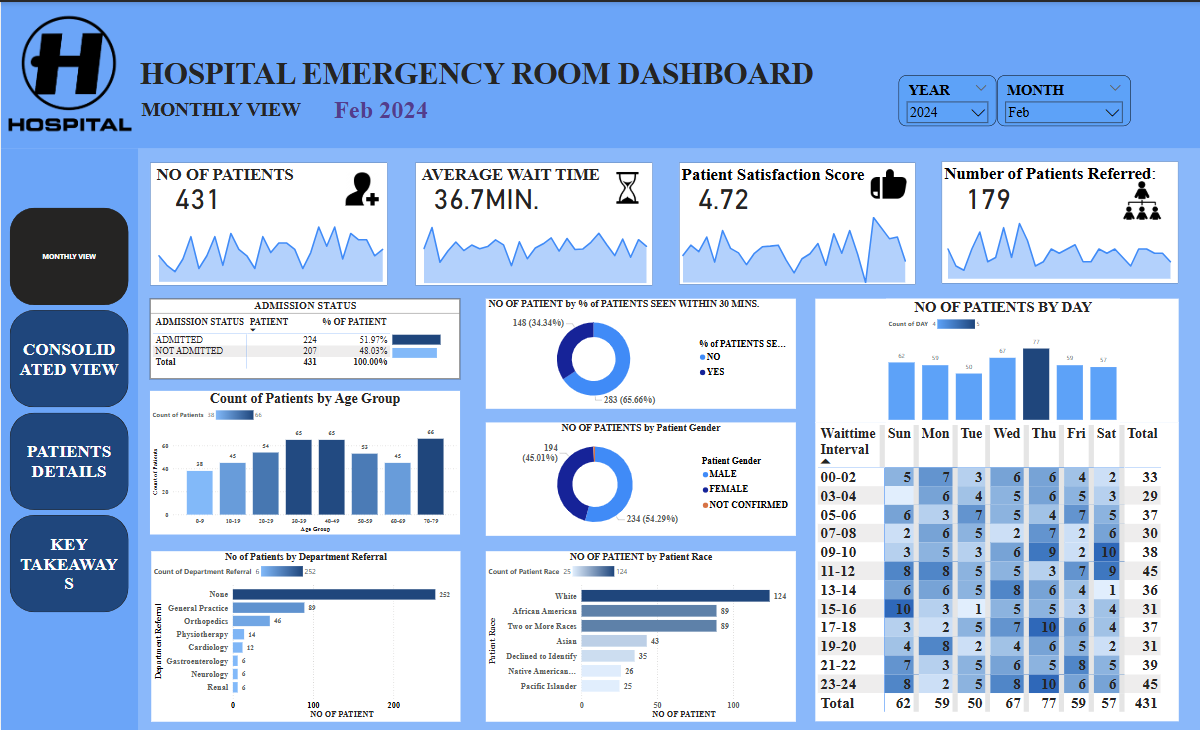

This screenshot's page, from the dashboard's own definition file:
{"tool":"powerbi","page":{"name":"MONTHLY VIEW","canvas":[2300,1400],"ordinal":0},"visuals":[{"type":"shape","box":[286,306.1,455,235.9],"z":0},{"type":"shape","box":[0,0,2300.9,279.6],"z":1000},{"type":"shape","box":[0,279.6,262.3,1120.8],"z":2000},{"type":"textbox","box":[262.1,98,1430.4,80.8],"z":3000},{"type":"textbox","box":[262.6,178.2,340.7,81.3],"z":4000},{"type":"card","fields":{"Values":["Hospital ER_Data.NO OF PATIENT"]},"box":[291.5,352.7,169,56.3],"z":5000},{"type":"slicer","fields":{"Values":["DATE Table.YEAR"]},"box":[1718.1,139.7,187.1,97.5],"z":6000},{"type":"slicer","fields":{"Values":["DATE Table.MONTH"]},"box":[1905.2,139.7,255.6,97.5],"z":7000},{"type":"textbox","box":[291.5,306.2,340.5,51.4],"z":8000},{"type":"areaChart","fields":{"Y":["Hospital ER_Data.NO OF PATIENT"],"Category":["DATE Table.Date.Variation.Date Hierarchy.Year","DATE Table.Date.Variation.Date Hierarchy.Quarter","DATE Table.Date.Variation.Date Hierarchy.Month","DATE Table.Date.Variation.Date Hierarchy.Day"]},"box":[286.6,399.2,458,142.1],"z":9000},{"type":"card","fields":{"Values":["Min(DATE Table.MONTH & YEAR)"]},"box":[603.3,165.7,246.9,71.9],"z":10000},{"type":"shape","box":[791.5,306.4,455,235.9],"z":11000},{"type":"card","fields":{"Values":["Hospital ER_Data.AVERAGE WAIT TIME"]},"box":[791.1,352.7,271.9,56.3],"z":12000},{"type":"textbox","box":[798.5,306.2,377.2,53.9],"z":13000},{"type":"areaChart","fields":{"Y":["Avg(Hospital ER_Data.Patient Waittime)"],"Category":["DATE Table.Date.Variation.Date Hierarchy.Year","DATE Table.Date.Variation.Date Hierarchy.Quarter","DATE Table.Date.Variation.Date Hierarchy.Month","DATE Table.Date.Variation.Date Hierarchy.Day"]},"box":[793.6,399.2,455.6,144.5],"z":14000},{"type":"shape","box":[1296.9,306.3,453.2,234.4],"z":15000},{"type":"card","fields":{"Values":["Hospital ER_Data.AV.Patient Satisfaction Score"]},"box":[1298.2,352.7,171.5,56.3],"z":16000},{"type":"textbox","box":[1298.2,306.2,394.3,61.2],"z":17000},{"type":"areaChart","fields":{"Category":["DATE Table.Date.Variation.Date Hierarchy.Year","DATE Table.Date.Variation.Date Hierarchy.Quarter","DATE Table.Date.Variation.Date Hierarchy.Month","DATE Table.Date.Variation.Date Hierarchy.Day"],"Y":["Hospital ER_Data.AV.Patient Satisfaction Score"]},"box":[1290.8,399.2,455.6,144.5],"z":18000},{"type":"shape","box":[1800.5,303.2,453.2,234.4],"z":19000},{"type":"card","fields":{"Values":["Hospital ER_Data.Number of Patients Referred"]},"box":[1805.2,352.7,169,56.3],"z":20000},{"type":"textbox","box":[1800.3,303.7,453.1,56.3],"z":21000},{"type":"areaChart","fields":{"Y":["Hospital ER_Data.Number of Patients Referred"],"Category":["DATE Table.Date.Variation.Date Hierarchy.Year","DATE Table.Date.Variation.Date Hierarchy.Quarter","DATE Table.Date.Variation.Date Hierarchy.Month","DATE Table.Date.Variation.Date Hierarchy.Day"]},"box":[1797.8,394.3,455.6,142.1],"z":22000},{"type":"pivotTable","title":"ADMISSION STATUS","fields":{"Rows":["Hospital ER_Data.ADMISSION STATUS"],"Values":["Hospital ER_Data.NO OF PATIENT","Divide(Hospital ER_Data.NO OF PATIENT, ScopedEval(Hospital ER_Data.NO OF PATIENT, []))"]},"box":[285,566.7,593.3,153.3],"z":23000},{"type":"barChart","fields":{"Category":["Hospital ER_Data.ADMISSION STATUS"],"Y":["CountNonNull(Hospital ER_Data.Patient Admission Flag)"]},"box":[744.7,611.1,133.6,89.1],"z":24000},{"type":"clusteredColumnChart","fields":{"Category":["Hospital ER_Data.Age Group"],"Y":["CountNonNull(Hospital ER_Data.Patient Age)"]},"box":[285,745,593.3,275],"z":25000},{"type":"clusteredBarChart","title":"No of Patients by Department Referral","fields":{"Category":["Hospital ER_Data.Department Referral"],"Y":["Hospital ER_Data.NO OF PATIENT"]},"box":[286.7,1050,591.7,326.7],"z":26000},{"type":"donutChart","fields":{"Category":["Hospital ER_Data.% of PATIENTS SEEN WITHIN 30 MINS."],"Y":["Hospital ER_Data.NO OF PATIENT"]},"box":[927.5,566.5,592.9,210.8],"z":27000},{"type":"donutChart","title":"NO OF PATIENTS by Patient Gender","fields":{"Category":["Hospital ER_Data.Patient Gender"],"Y":["Hospital ER_Data.NO OF PATIENT"]},"box":[926.7,803.3,593.3,216.7],"z":28000},{"type":"barChart","fields":{"Category":["Hospital ER_Data.Patient Race"],"Y":["Hospital ER_Data.NO OF PATIENT"]},"box":[926.7,1050,593.3,326.7],"z":29000},{"type":"pivotTable","fields":{"Rows":["Hospital ER_Data.Waittime Interval"],"Columns":["DATE Table.DAY"],"Values":["Hospital ER_Data.NO OF PATIENT"]},"box":[1558.7,804.1,695.2,571.5],"z":30000},{"type":"shape","box":[1558.7,566.6,695.2,237.5],"z":31000},{"type":"columnChart","title":"NO OF PATIENTS BY DAY","fields":{"Category":["DATE Table.DAY"],"Y":["Hospital ER_Data.NO OF PATIENT"]},"box":[1692.3,566.6,447.8,237.5],"z":32000},{"type":"image","box":[654,320.9,73.5,73.5],"z":33000},{"type":"image","box":[1650.9,298.8,95.5,100.4],"z":34000},{"type":"image","box":[2140.7,338,85.7,83.3],"z":35000},{"type":"image","box":[1151.2,313.5,95.5,80.8],"z":36000},{"type":"pageNavigator","box":[17.3,393.4,227.6,776.9],"z":37000},{"type":"image","box":[9.9,14.8,244.9,244.9],"z":38000}]}

Visuals, with their boxes in screenshot pixels (x1, y1, x2, y2), scaled from the page's 2300x1400 canvas onto the 1200x730 screenshot:
shape: box(149, 160, 387, 283)
shape: box(0, 0, 1199, 146)
shape: box(0, 146, 137, 729)
textbox: box(137, 51, 883, 93)
textbox: box(137, 93, 315, 135)
card - Hospital ER_Data.NO OF PATIENT: box(152, 184, 240, 213)
slicer - DATE Table.YEAR: box(896, 73, 994, 124)
slicer - DATE Table.MONTH: box(994, 73, 1127, 124)
textbox: box(152, 160, 330, 186)
areaChart - Hospital ER_Data.NO OF PATIENT x DATE Table.Date.Variation.Date Hierarchy.Year: box(150, 208, 388, 282)
card - Min(DATE Table.MONTH & YEAR): box(315, 86, 444, 124)
shape: box(413, 160, 650, 283)
card - Hospital ER_Data.AVERAGE WAIT TIME: box(413, 184, 555, 213)
textbox: box(417, 160, 613, 188)
areaChart - Avg(Hospital ER_Data.Patient Waittime) x DATE Table.Date.Variation.Date Hierarchy.Year: box(414, 208, 652, 284)
shape: box(677, 160, 913, 282)
card - Hospital ER_Data.AV.Patient Satisfaction Score: box(677, 184, 767, 213)
textbox: box(677, 160, 883, 192)
areaChart - DATE Table.Date.Variation.Date Hierarchy.Year x DATE Table.Date.Variation.Date Hierarchy.Quarter: box(673, 208, 911, 284)
shape: box(939, 158, 1176, 280)
card - Hospital ER_Data.Number of Patients Referred: box(942, 184, 1030, 213)
textbox: box(939, 158, 1176, 188)
areaChart - Hospital ER_Data.Number of Patients Referred x DATE Table.Date.Variation.Date Hierarchy.Year: box(938, 206, 1176, 280)
"ADMISSION STATUS" pivotTable: box(149, 295, 458, 375)
barChart - Hospital ER_Data.ADMISSION STATUS x CountNonNull(Hospital ER_Data.Patient Admission Flag): box(389, 319, 458, 365)
clusteredColumnChart - Hospital ER_Data.Age Group x CountNonNull(Hospital ER_Data.Patient Age): box(149, 388, 458, 532)
"No of Patients by Department Referral" clusteredBarChart: box(150, 548, 458, 718)
donutChart - Hospital ER_Data.% of PATIENTS SEEN WITHIN 30 MINS. x Hospital ER_Data.NO OF PATIENT: box(484, 295, 793, 405)
"NO OF PATIENTS by Patient Gender" donutChart: box(483, 419, 793, 532)
barChart - Hospital ER_Data.Patient Race x Hospital ER_Data.NO OF PATIENT: box(483, 548, 793, 718)
pivotTable - Hospital ER_Data.Waittime Interval x DATE Table.DAY: box(813, 419, 1176, 717)
shape: box(813, 295, 1176, 419)
"NO OF PATIENTS BY DAY" columnChart: box(883, 295, 1117, 419)
image: box(341, 167, 380, 206)
image: box(861, 156, 911, 208)
image: box(1117, 176, 1162, 220)
image: box(601, 163, 650, 206)
pageNavigator: box(9, 205, 128, 610)
image: box(5, 8, 133, 135)
